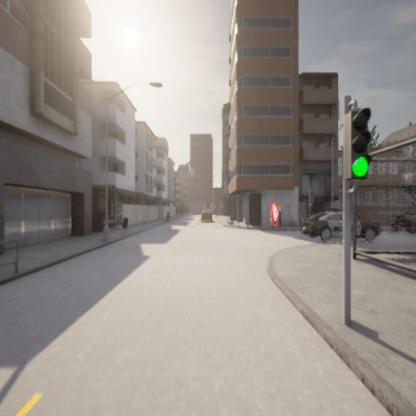traffic_light_green: (350, 108, 372, 178)
vehicle: (303, 211, 342, 239), (200, 207, 213, 222)
